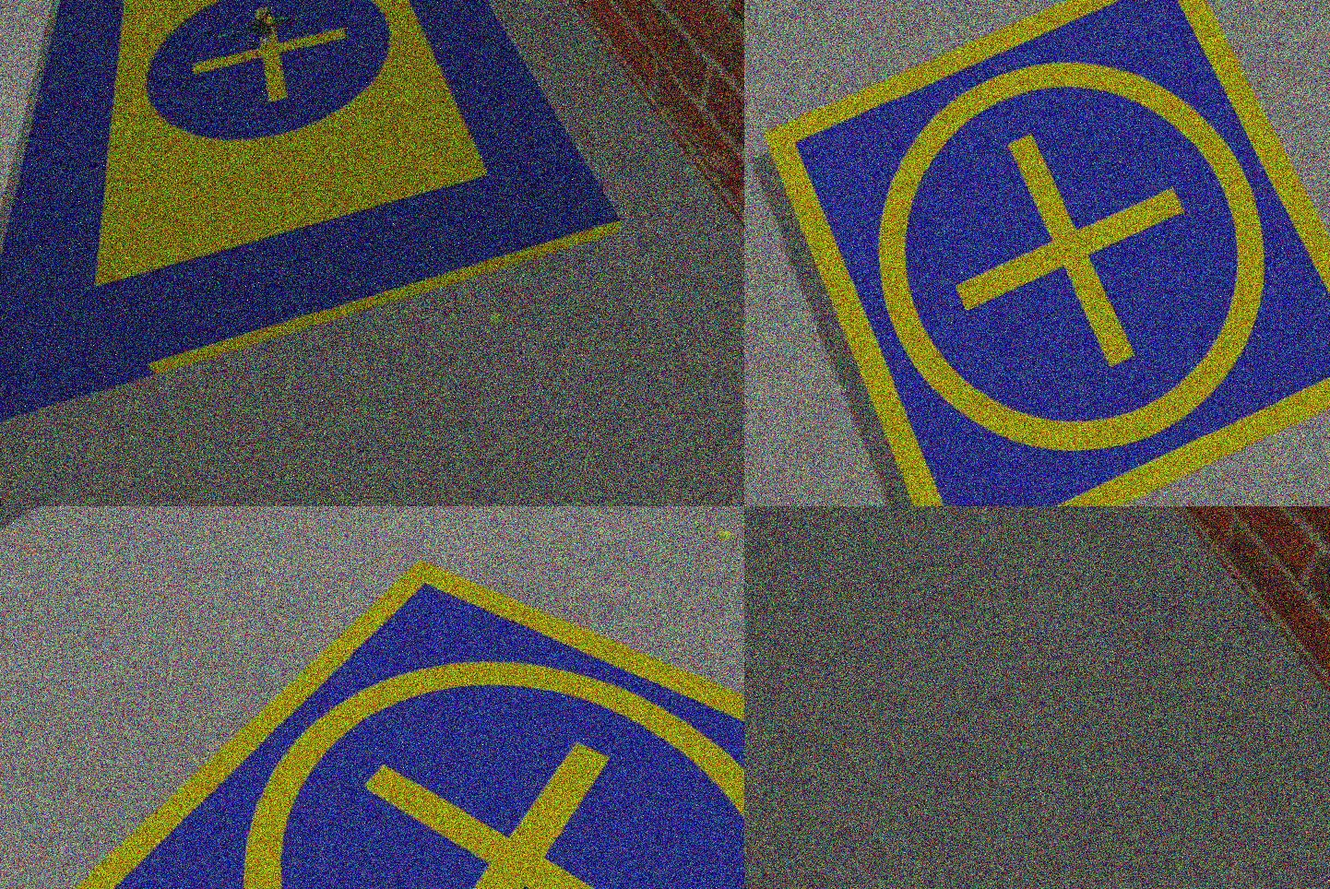large_base: (1, 1, 645, 421)
small_base: (745, 1, 1330, 506), (1, 506, 745, 889)
